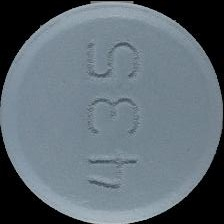0378-0435: (0, 0, 224, 224)
